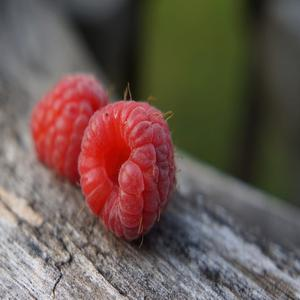raspb: (35, 75, 190, 240)
